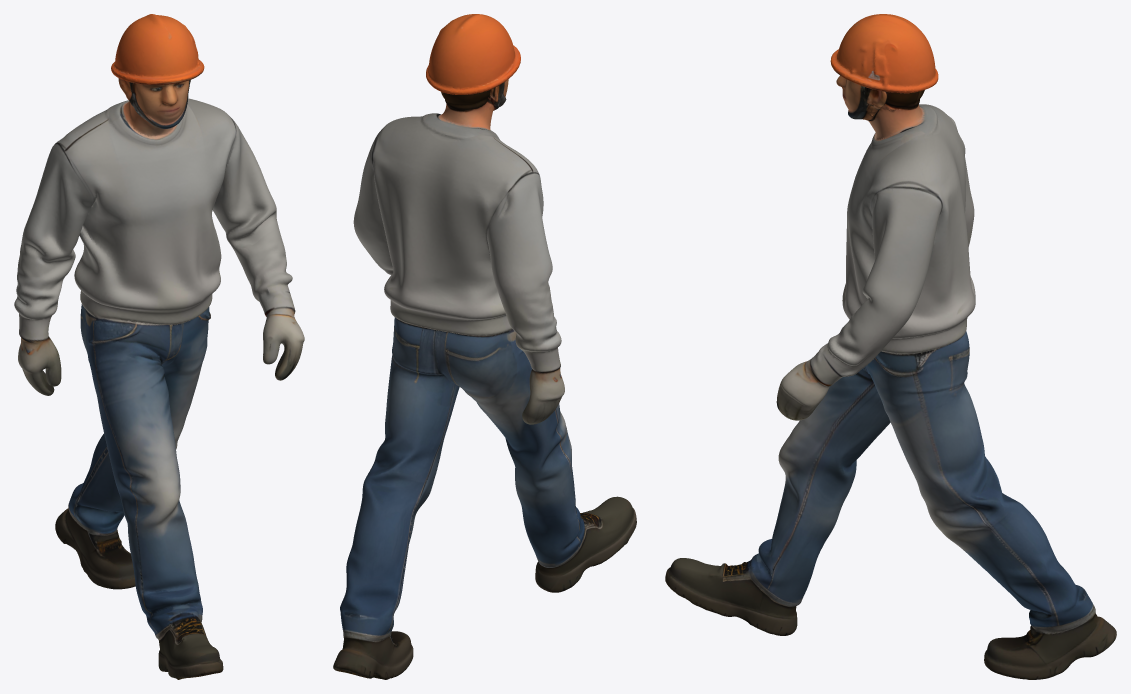
Rendered from worker.glb.
The picture shows the model from 3 angles, left to right: view 1: azimuth 30°, elevation 25°; view 2: azimuth 150°, elevation 25°; view 3: azimuth 270°, elevation 25°; orthographic projection. The views are drawn at different scales.
Parts seen in each view (by area): view 1: tripo_node_ee151a76-66e1-43f6-8020-632fbef145ec; view 2: tripo_node_ee151a76-66e1-43f6-8020-632fbef145ec; view 3: tripo_node_ee151a76-66e1-43f6-8020-632fbef145ec.
Part boxes in pixels (box(x1,y1,x2,y2)): tripo_node_ee151a76-66e1-43f6-8020-632fbef145ec: box(14, 14, 304, 679); tripo_node_ee151a76-66e1-43f6-8020-632fbef145ec: box(333, 14, 636, 679); tripo_node_ee151a76-66e1-43f6-8020-632fbef145ec: box(665, 14, 1116, 679).
Size of the model in its own units: 0.3882 by 1 by 0.6355.
1 material, 1 textured.
